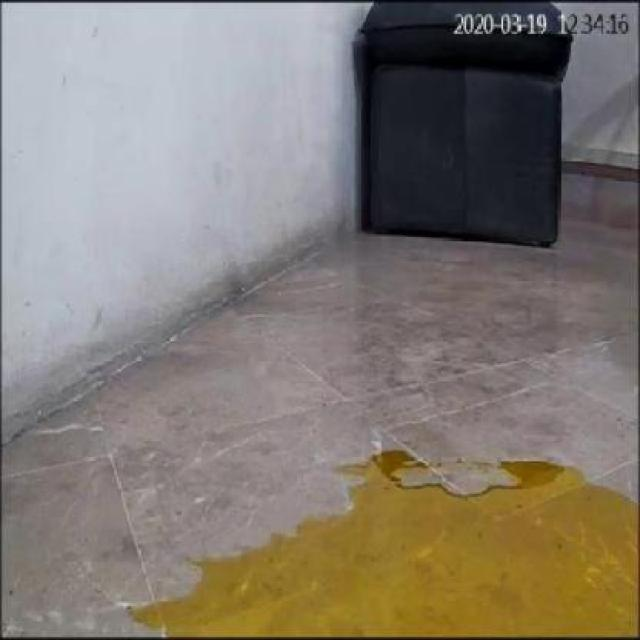spillage: (133, 450, 637, 639)
